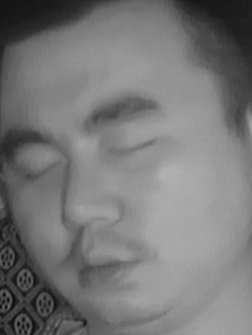blink: (105, 128, 160, 165), (17, 150, 62, 183)
mouth: (59, 238, 147, 293)
